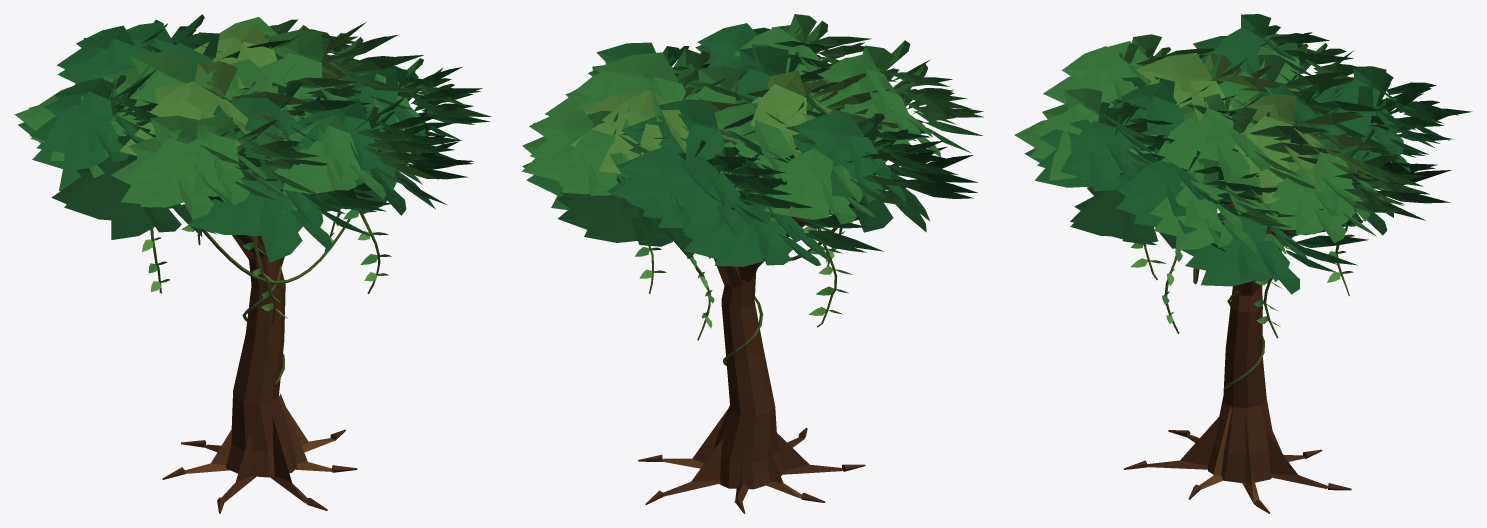
The model's file is jungle_tree.obj.
The picture shows the model from 3 angles, left to right: view 1: azimuth 30°, elevation 25°; view 2: azimuth 150°, elevation 25°; view 3: azimuth 270°, elevation 25°; orthographic projection. The views are drawn at different scales.
Size of the model in its own units: 9.43 by 8.7 by 9.46.
